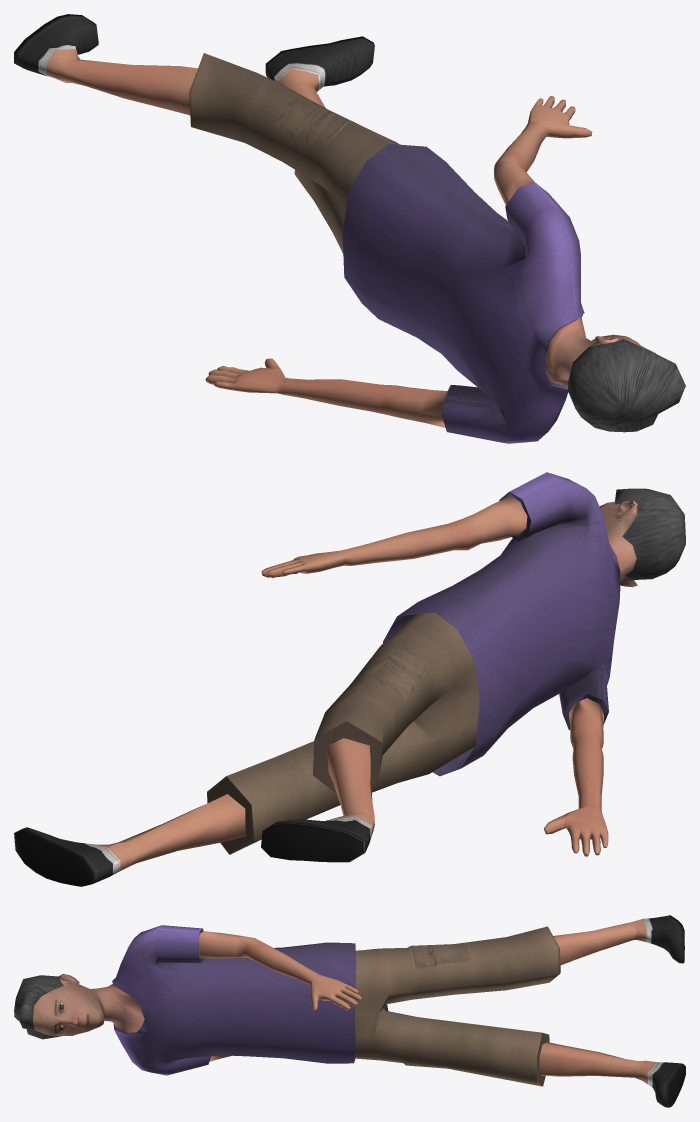
The model's file is walk.obj.
3 renders of one model, top to bottom at view 1: azimuth 30°, elevation 25°; view 2: azimuth 150°, elevation 25°; view 3: azimuth 270°, elevation 25°, orthographic. The views are drawn at different scales.
Bounding box in the file's own units: 0.8015 × 0.4693 × 1.74.
Materials: 1 (1 with a texture image).
